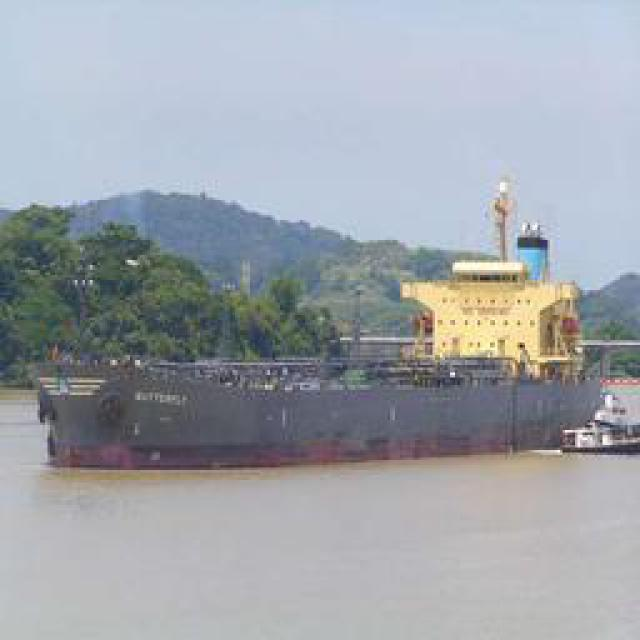Ship: (24, 256, 606, 478), (561, 395, 640, 456)
